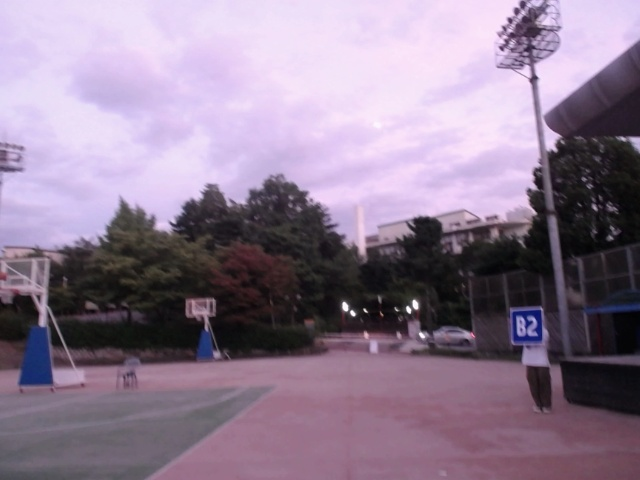delivery_b2: (510, 305, 545, 346)
